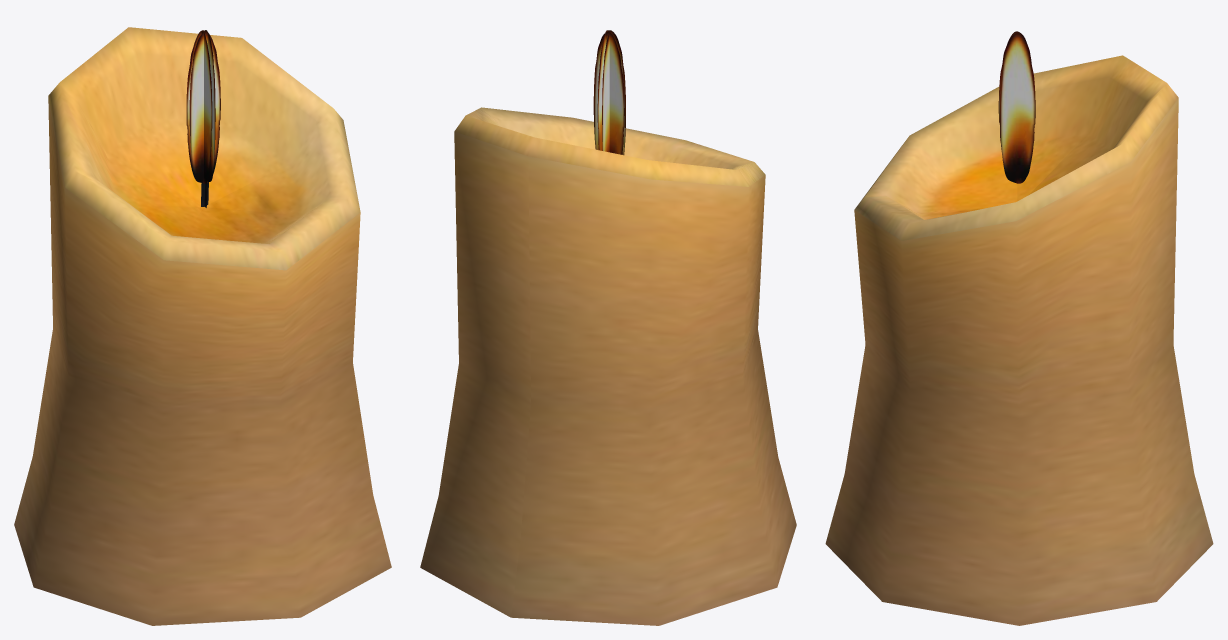
The model's file is Candle_01.FBX.
3 views of the same model, side by side, from view 1: azimuth 30°, elevation 25°; view 2: azimuth 150°, elevation 25°; view 3: azimuth 270°, elevation 25° (orthographic).
Visible parts, largest first — view 1: Candle_01, Flame; view 2: Candle_01, Flame; view 3: Candle_01, Flame.
Part boxes in pixels (bbox=[...]): Candle_01: bbox=[14, 27, 391, 625]; Flame: bbox=[186, 30, 220, 183]; Candle_01: bbox=[420, 107, 796, 625]; Flame: bbox=[593, 30, 625, 155]; Candle_01: bbox=[825, 55, 1213, 625]; Flame: bbox=[998, 31, 1035, 183].
Size of the model in its own units: 7.75 by 11.42 by 7.75.
